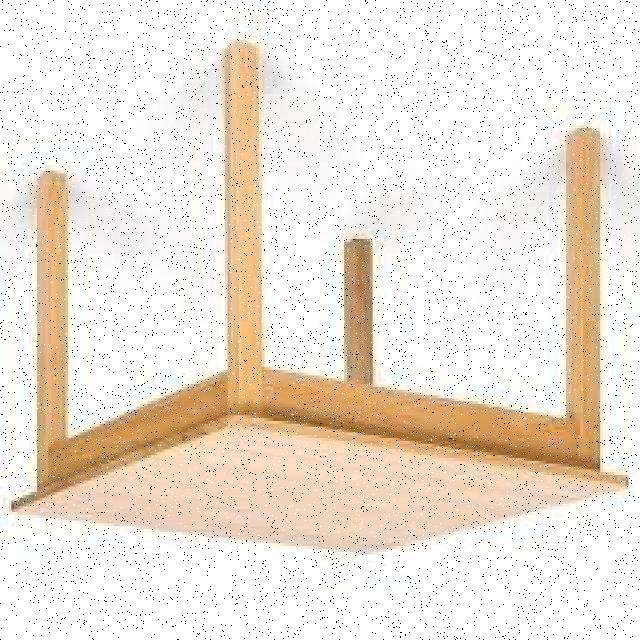mobile-phone: (7, 37, 627, 557)
